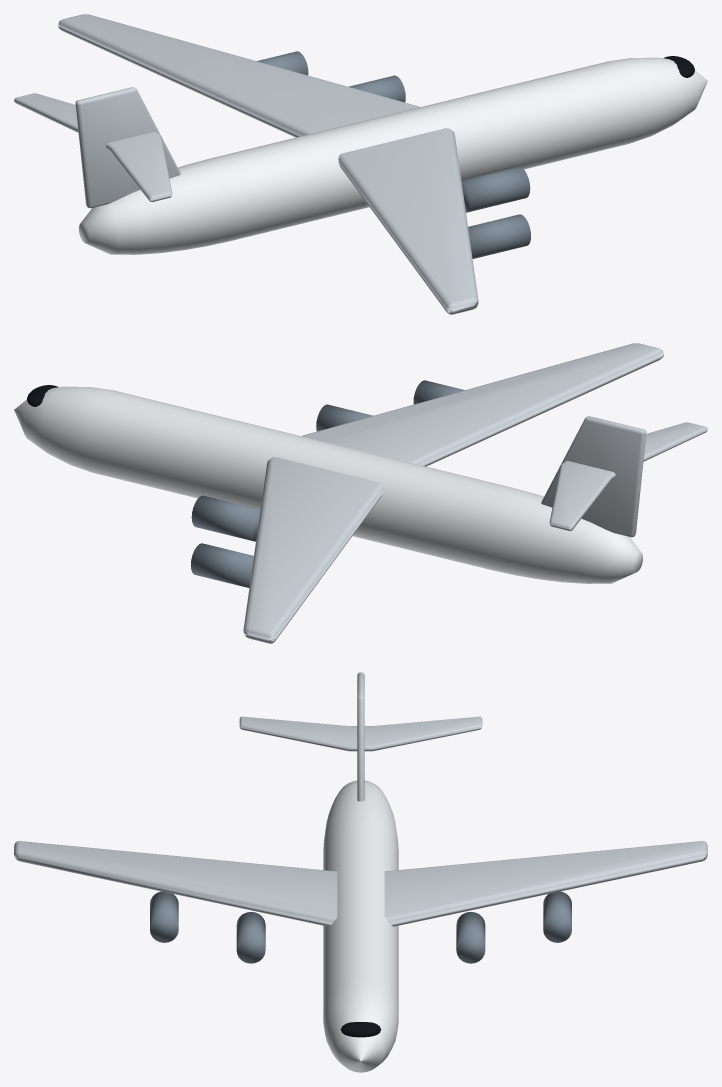
File: heavy_civ.glb
The picture shows the model from 3 angles, top to bottom: view 1: azimuth 30°, elevation 25°; view 2: azimuth 150°, elevation 25°; view 3: azimuth 270°, elevation 25°; orthographic projection. The views are drawn at different scales.
Parts seen in each view (by area): view 1: fus, wing, fin, stab, eng17.6, eng113.6, eng-17.6, eng-113.6; view 2: fus, wing, fin, stab, eng-17.6, eng-113.6, eng17.6, eng113.6; view 3: wing, fus, stab, eng17.6, eng-17.6, eng113.6, eng-113.6, fin.
Part boxes in pixels (box(x1,y1,x2,y2)): fus: box(79, 57, 707, 254); wing: box(58, 14, 478, 314); fin: box(75, 87, 180, 208); stab: box(14, 93, 172, 202); eng17.6: box(461, 166, 530, 212); eng113.6: box(468, 214, 530, 258); eng-17.6: box(349, 75, 405, 102); eng-113.6: box(257, 51, 308, 75); fus: box(14, 386, 642, 583); wing: box(243, 343, 663, 643); fin: box(541, 416, 646, 537); stab: box(549, 422, 707, 531); eng-17.6: box(191, 495, 260, 541); eng-113.6: box(191, 543, 253, 587); eng17.6: box(316, 404, 372, 431); eng113.6: box(413, 380, 464, 404); wing: box(14, 841, 707, 926); fus: box(323, 780, 398, 1072); stab: box(239, 716, 482, 751); eng17.6: box(236, 912, 265, 963); eng-17.6: box(456, 912, 485, 963); eng113.6: box(150, 891, 178, 942); eng-113.6: box(543, 891, 571, 942); fin: box(357, 672, 364, 801).
Size of the model in its own units: 44.56 by 11.6 by 48.
